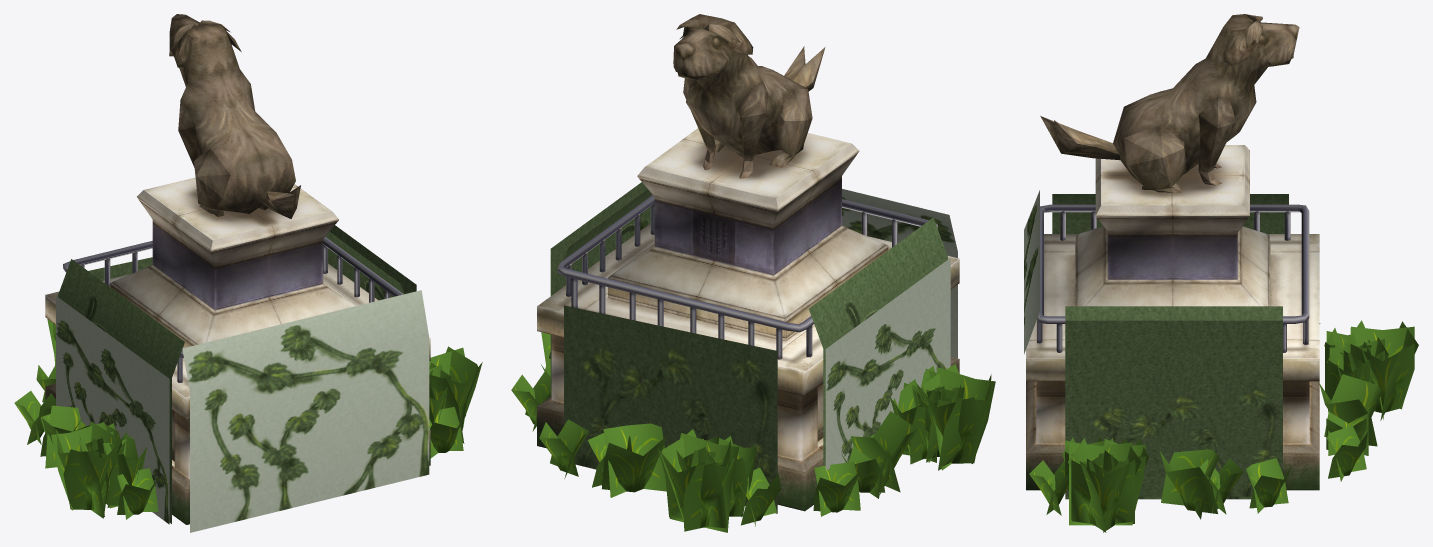
The model's file is a_SWTgen01.glb.
The picture shows the model from 3 angles, left to right: view 1: azimuth 30°, elevation 25°; view 2: azimuth 150°, elevation 25°; view 3: azimuth 270°, elevation 25°; orthographic projection. The views are drawn at different scales.
Visible parts, largest first — view 1: a_SWTgen01; view 2: a_SWTgen01; view 3: a_SWTgen01.
Part boxes in pixels (x1=…): a_SWTgen01: x1=14, y1=14, x2=482, y2=532; a_SWTgen01: x1=511, y1=14, x2=995, y2=532; a_SWTgen01: x1=1024, y1=14, x2=1418, y2=532.
Bounding box in the file's own units: 4.71 × 4.45 × 3.81.
Materials: 5 (5 with a texture image).
